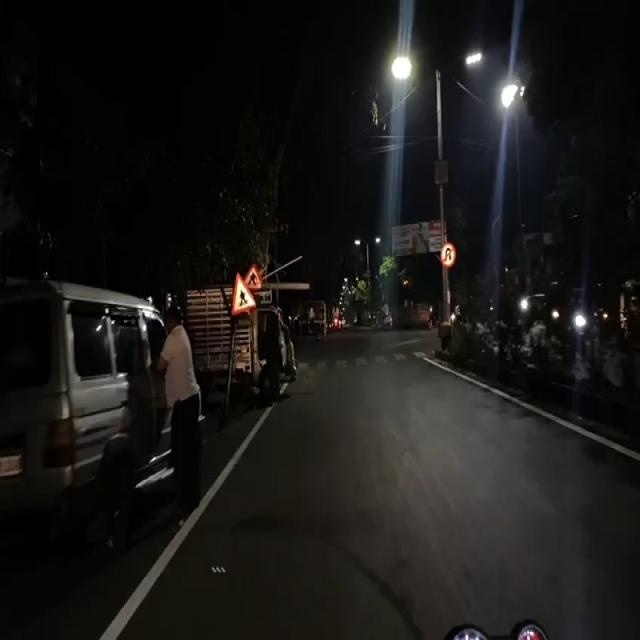bien_nguy_hiem: (232, 271, 256, 315), (245, 262, 264, 292), (440, 242, 456, 266)
